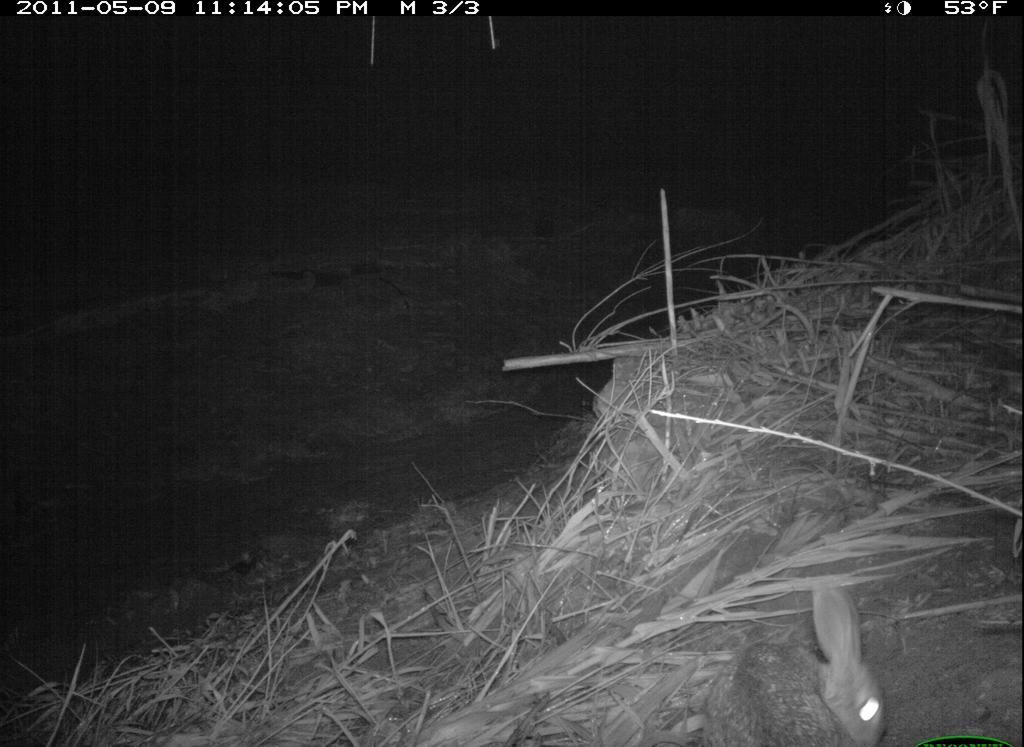rabbit: (692, 570, 899, 743)
